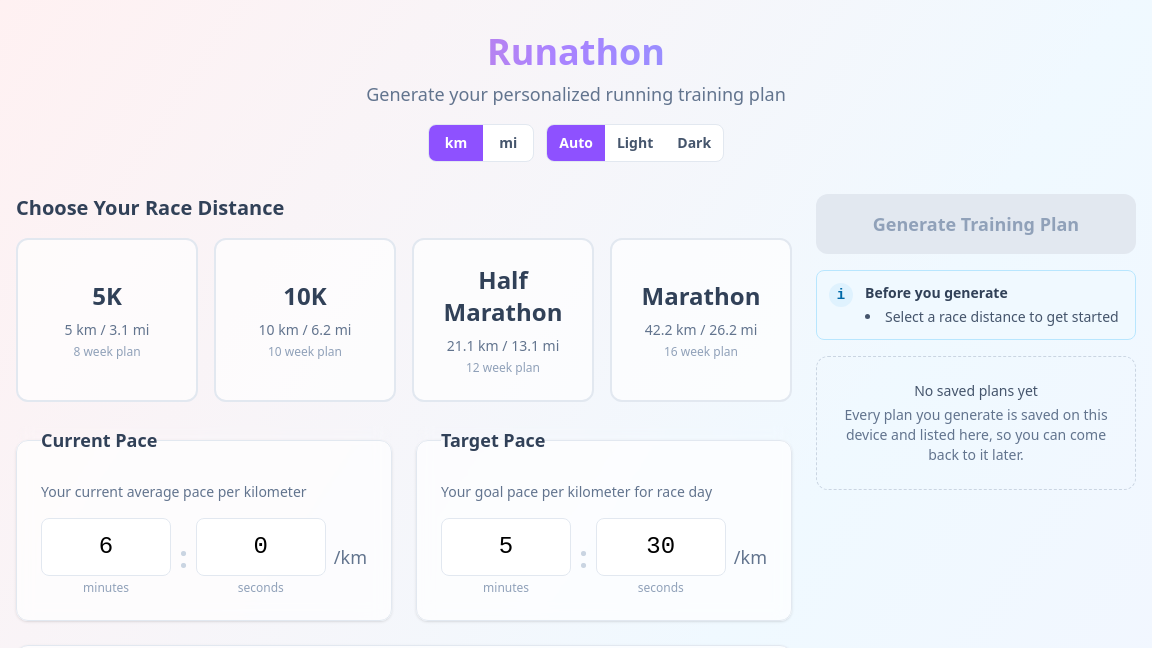
Test: App › tracks workout completion and shows a progress summary
Click the button with aria-label "5K, 5 kilometers" at (107, 320), box [16,238,198,402]
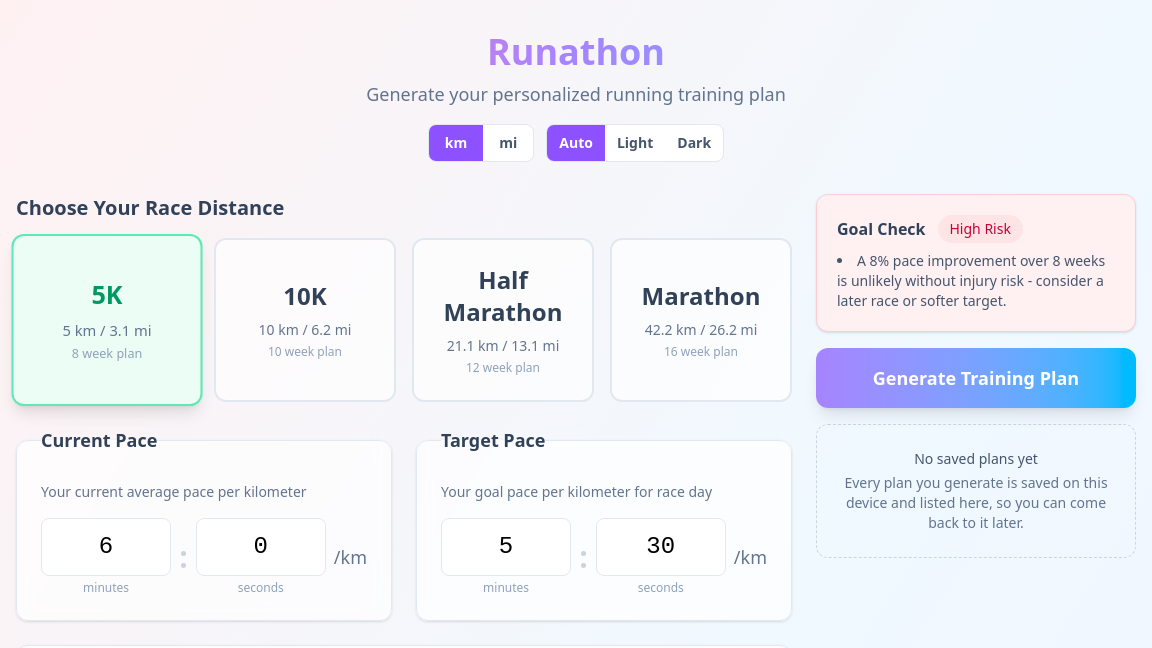
Click the button with aria-label "generate your personalized training plan" at (976, 378), box [816,348,1136,408]
(page scrolled)
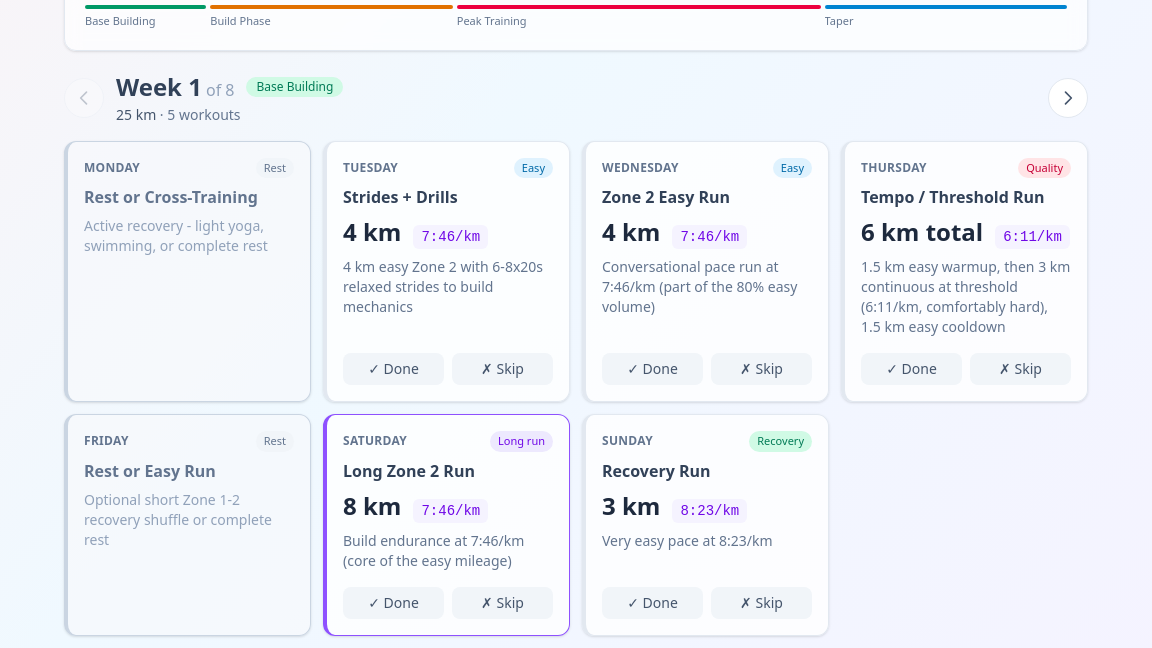
Click the button "✓ Done" below "Strides + Drills" at (394, 369), box [343,353,444,385]
(page scrolled)
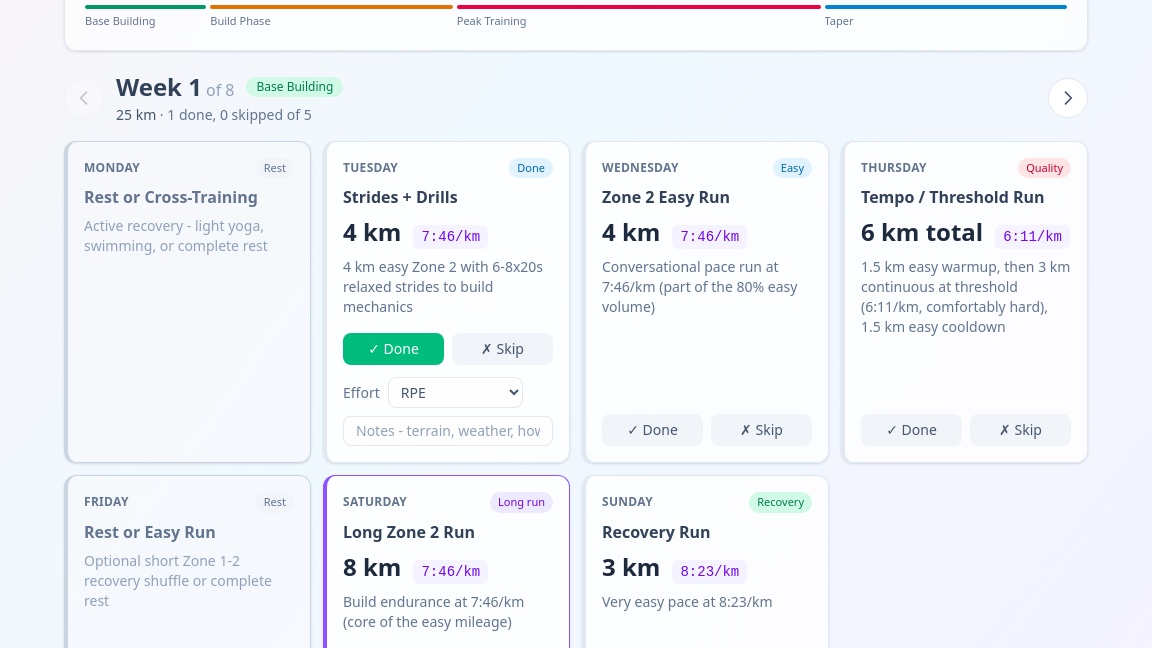
Note: Clicking the same button again clears the mark.
Click the button "✓ Done" below "Strides + Drills" at (394, 349), box [343,333,444,365]
(page scrolled)
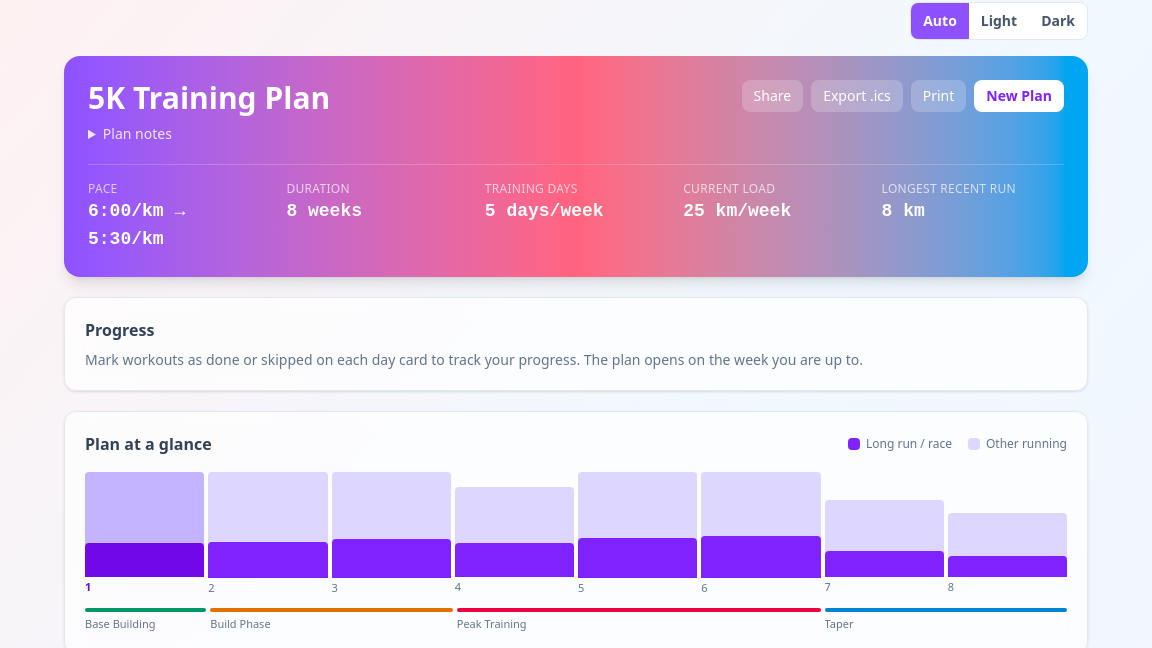
Expected: the text "Mark workouts as done" is shown, [85,350,863,369]
